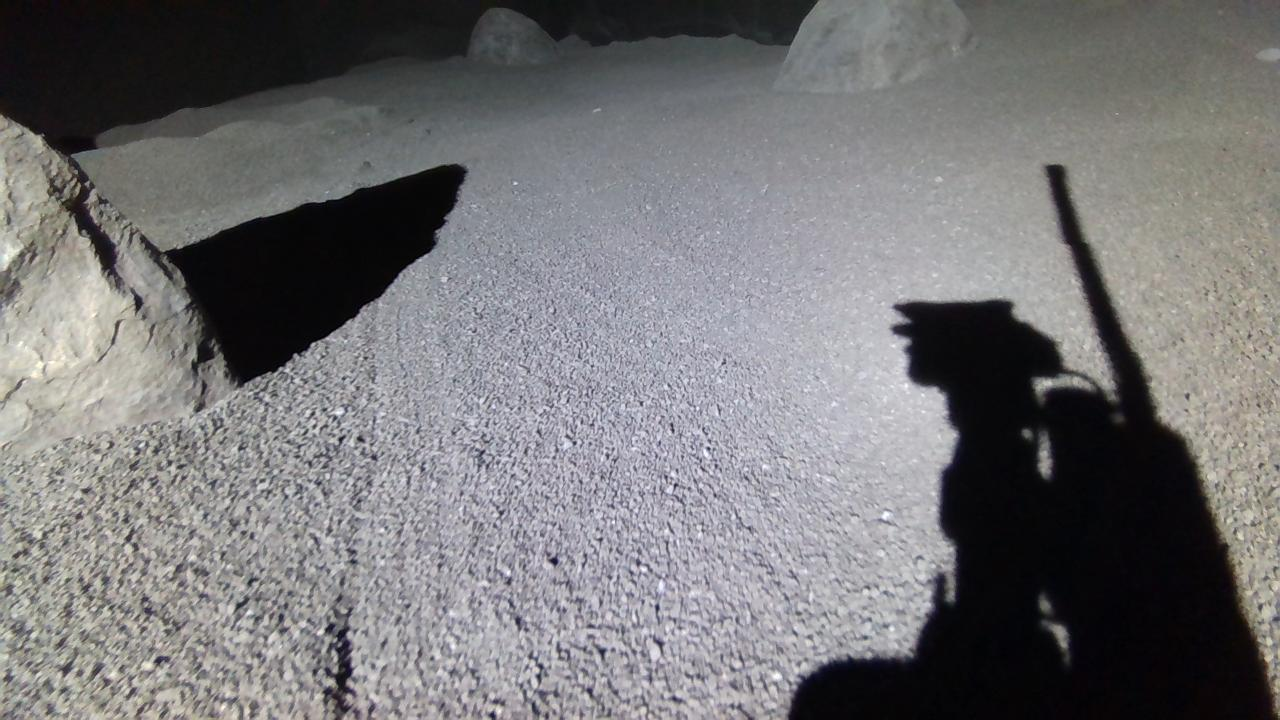rock: (776, 0, 979, 91), (466, 6, 559, 64)
